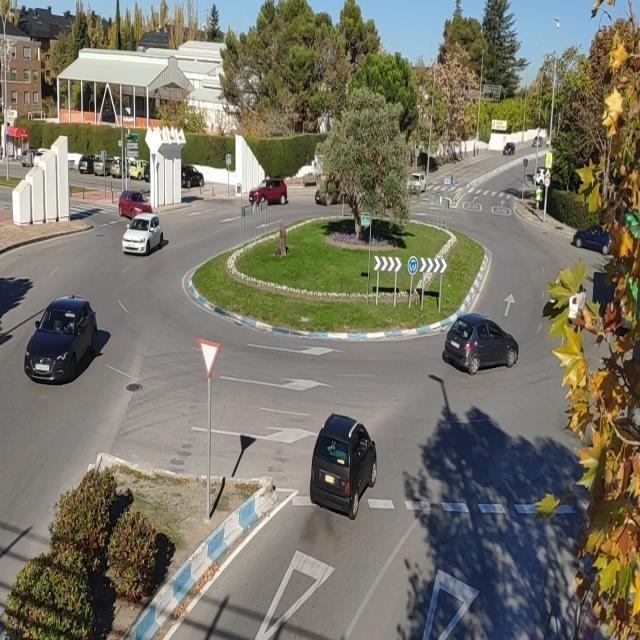Car: (310, 413, 378, 520), (23, 297, 99, 383), (444, 314, 519, 375), (121, 214, 163, 255), (573, 224, 613, 254), (250, 178, 288, 206), (119, 191, 152, 220), (406, 174, 426, 194), (503, 142, 515, 156)
